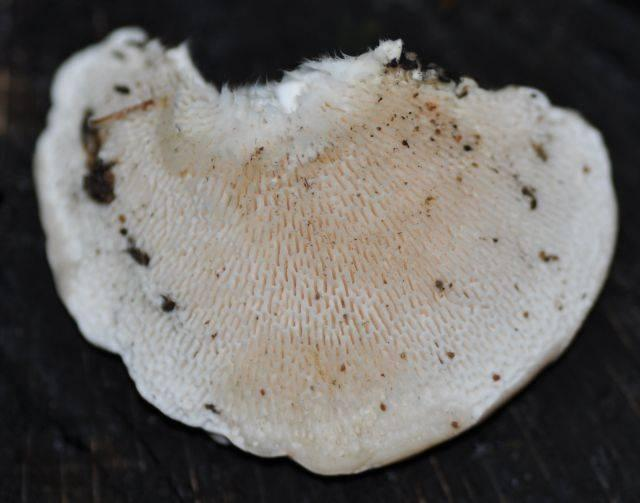poisonous_mushroom: (30, 24, 620, 477)
